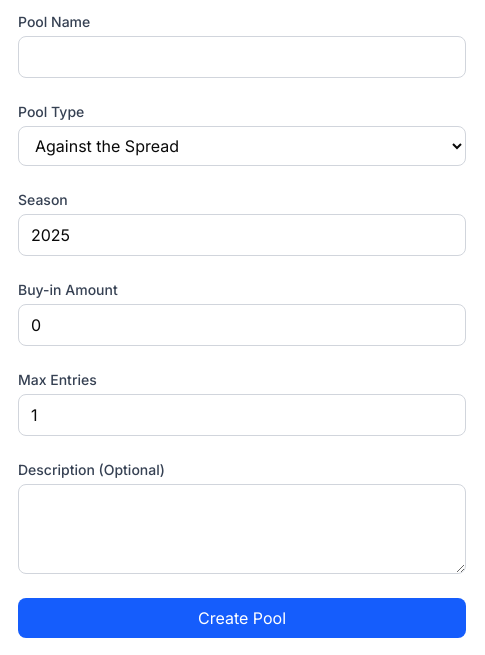
Test: PoolSetup › shows loading state during submission
Step 1. Type "Test Pool" into the field labelled "Pool Name" → (242, 57), box [18,36,466,78]
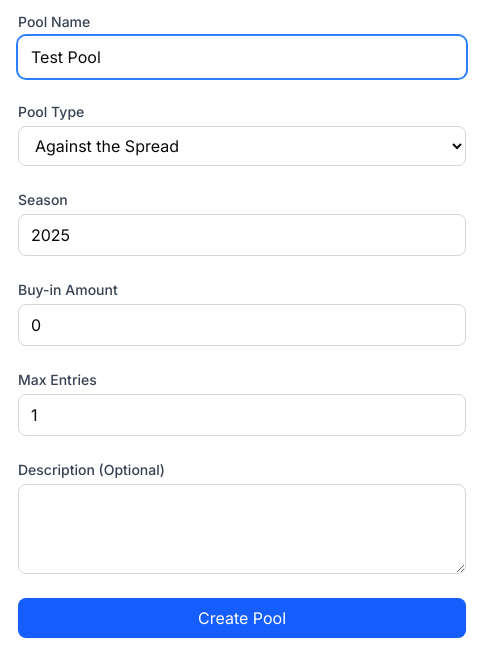
Step 2. Click the button "Create Pool" → (242, 618), box [18,598,466,638]
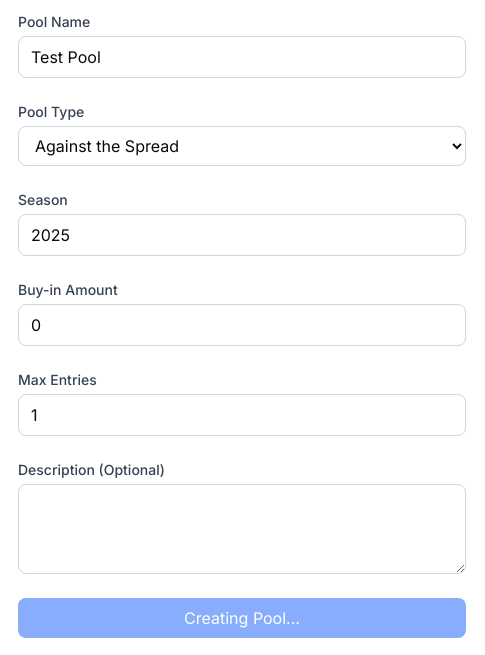
Expected: the button "Creating Pool..." is disabled, [18,598,466,638]
